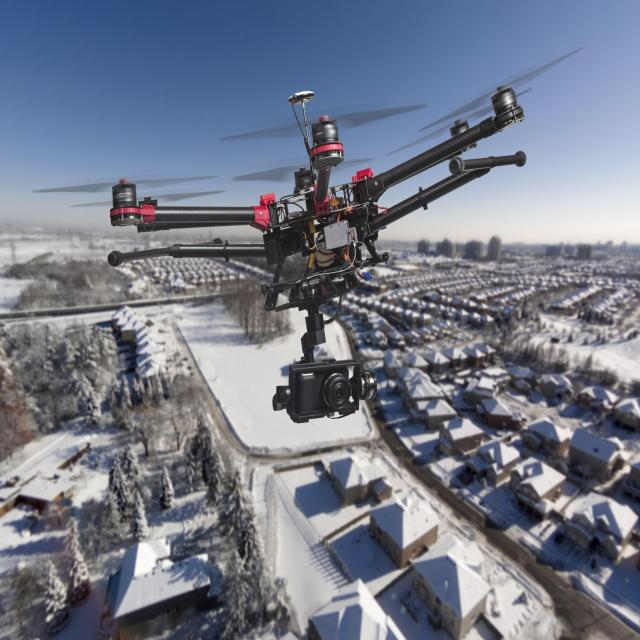UAV: (105, 79, 530, 423)
